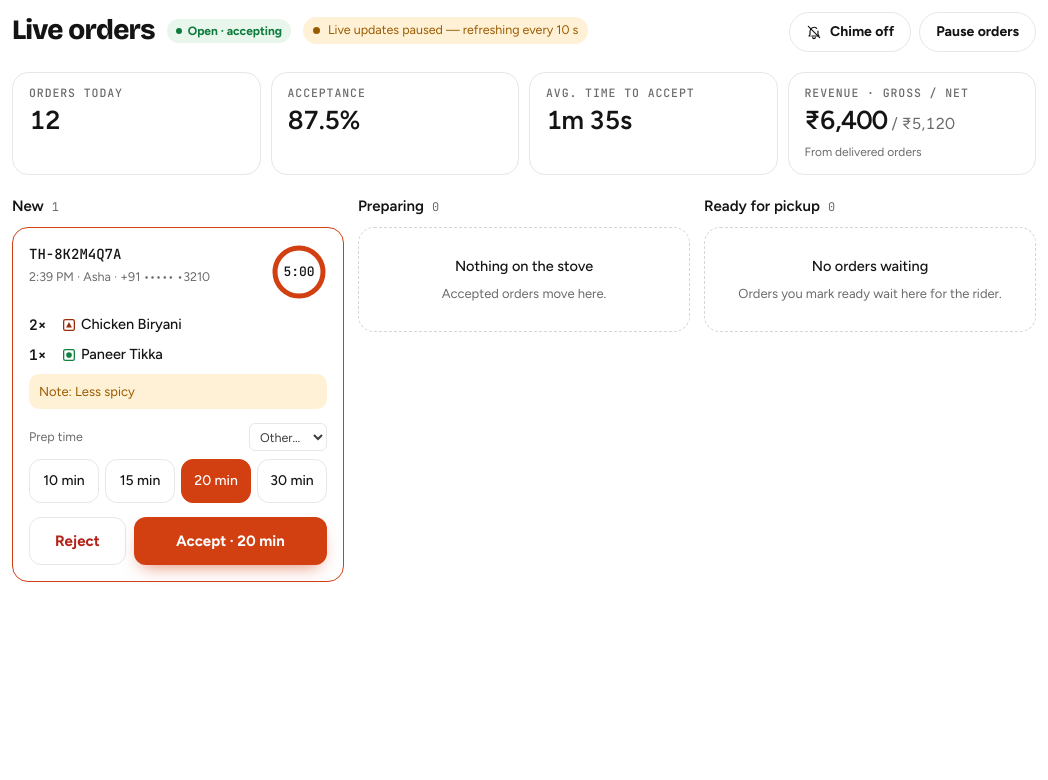
Test case: OrdersBoard (board 20) › shows "Rejected · the customer is being refunded" after a rejection removes the order
Click the button "Reject". click: coordinates (77, 541)
box: x1=29 y1=517 x2=126 y2=565
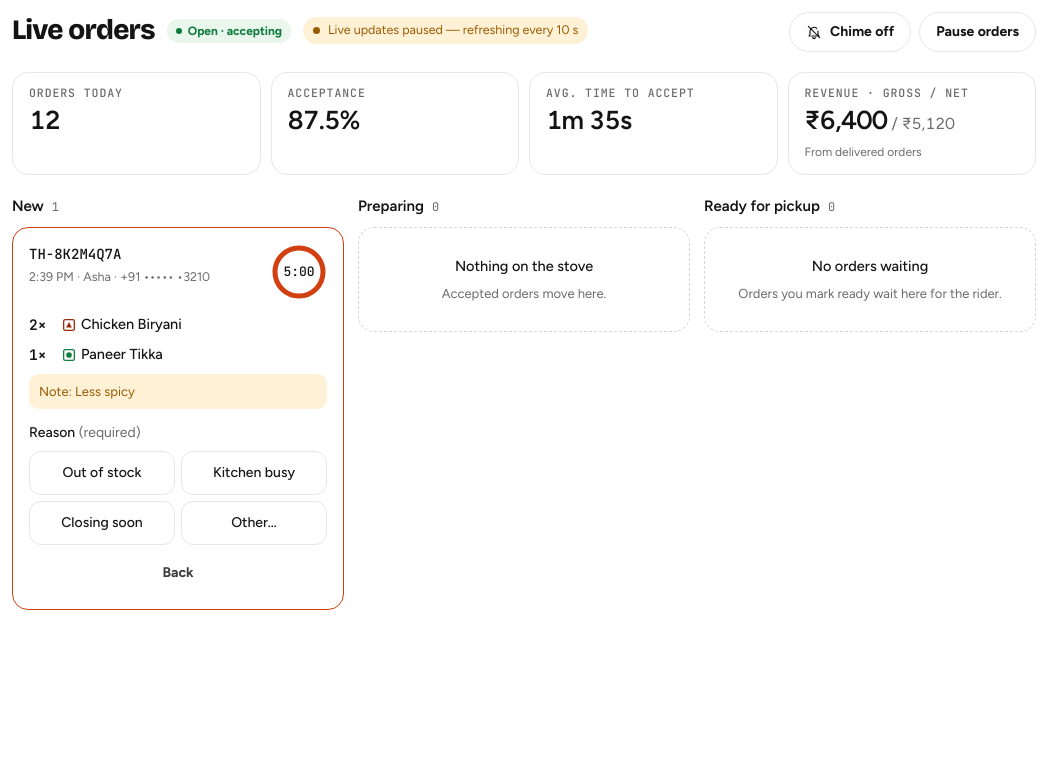
Click the button "Out of stock". click: coordinates (102, 473)
box: x1=29 y1=451 x2=175 y2=495
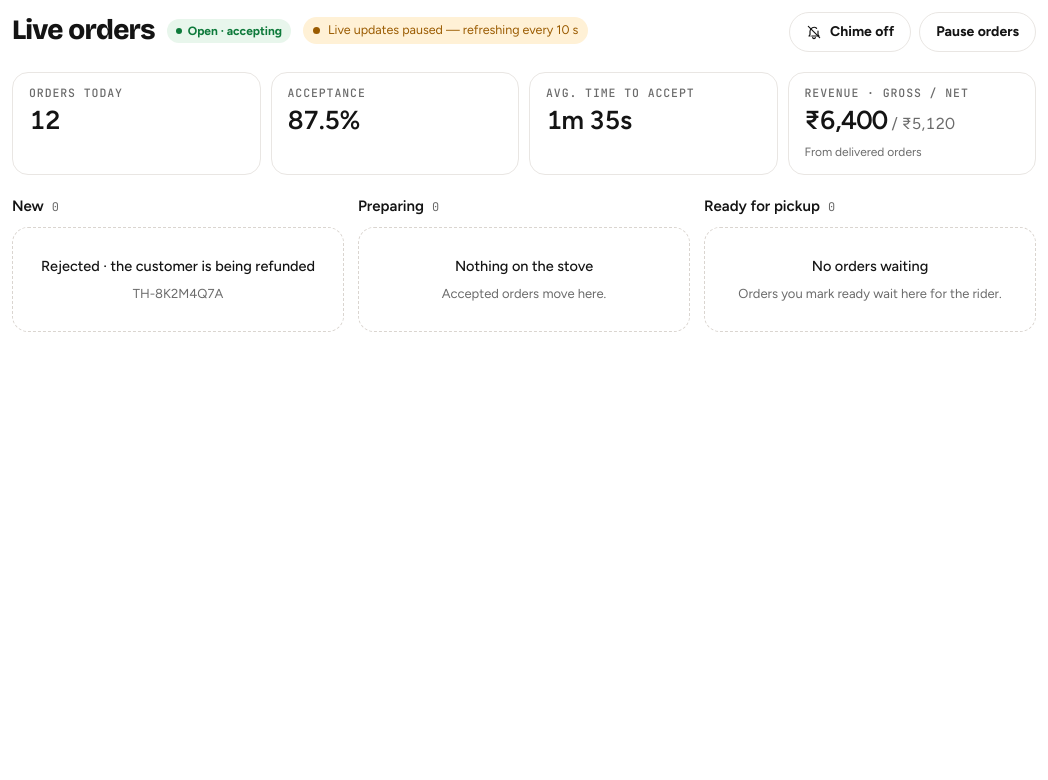
Expected: the text "Rejected · the customer is being refunded" is shown, x1=31 y1=256 x2=325 y2=278
